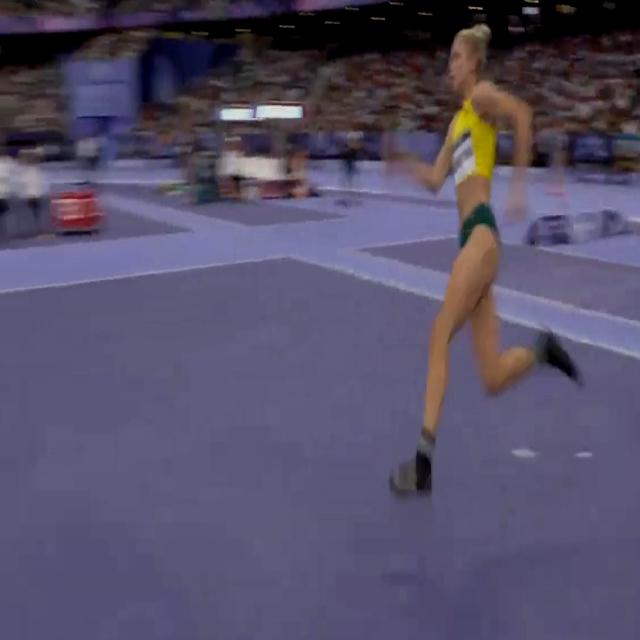run: (389, 27, 586, 497)
